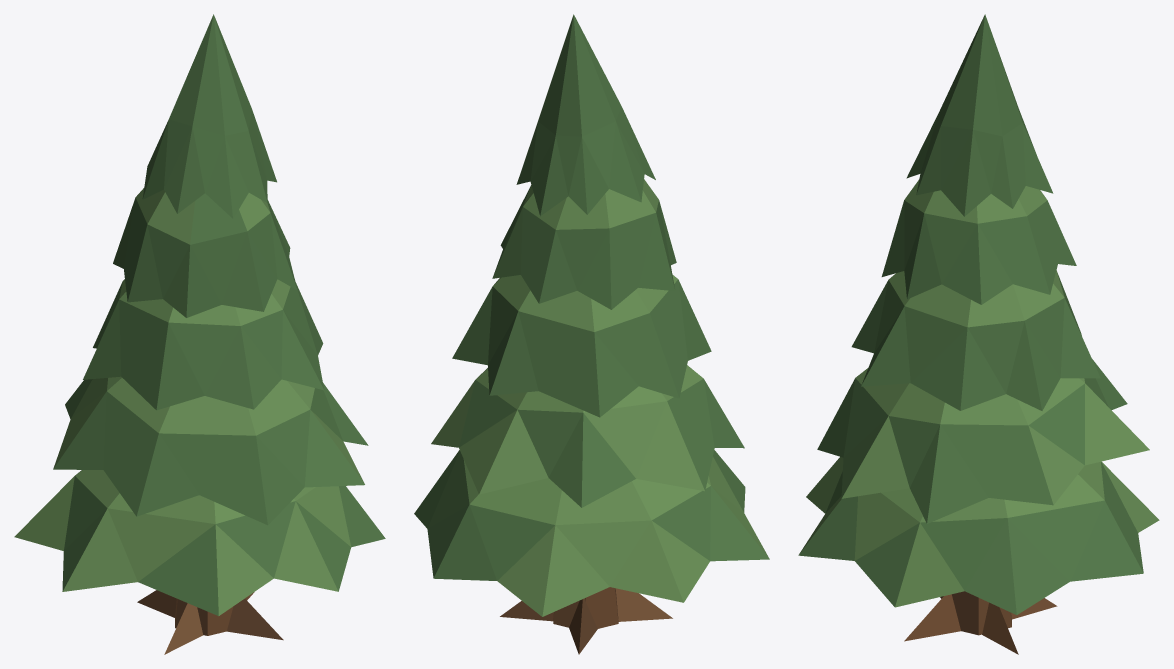
File: tree_pineRoundD.glb
3 renders of one model, left to right at view 1: azimuth 30°, elevation 25°; view 2: azimuth 150°, elevation 25°; view 3: azimuth 270°, elevation 25°, orthographic.
Visible parts, largest first — view 1: tree_pineRoundD.002; view 2: tree_pineRoundD.002; view 3: tree_pineRoundD.002.
Part boxes in pixels (x1=…): tree_pineRoundD.002: x1=14, y1=14, x2=385, y2=654; tree_pineRoundD.002: x1=414, y1=14, x2=769, y2=654; tree_pineRoundD.002: x1=798, y1=14, x2=1159, y2=654.
Size of the model in its own units: 1.1 by 2 by 1.07.
